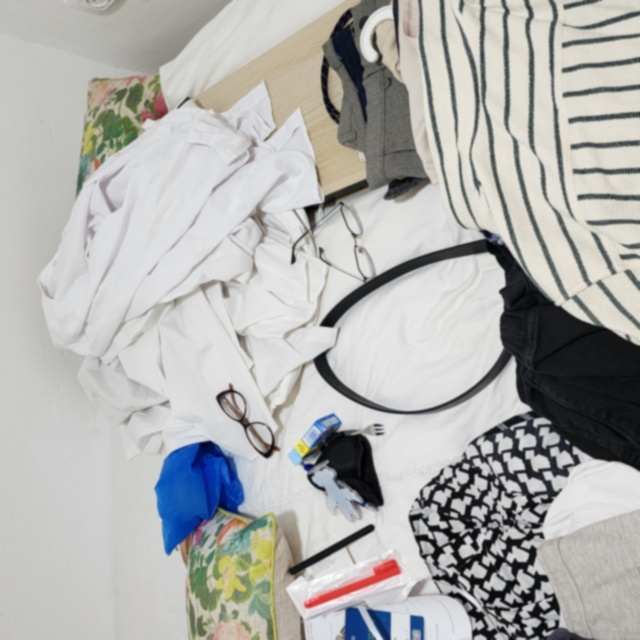glasses: (283, 195, 378, 285), (212, 379, 283, 461)
